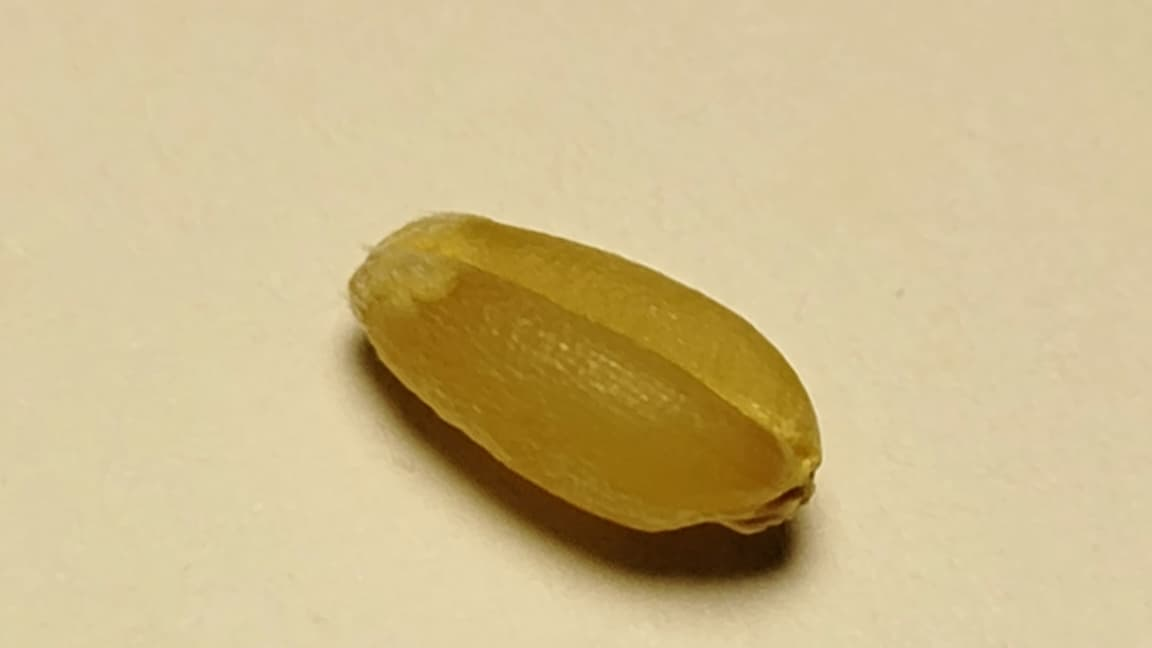healthy: (351, 213, 820, 532)
